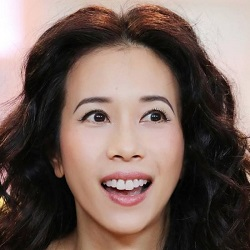unmask: (63, 52, 185, 235)
